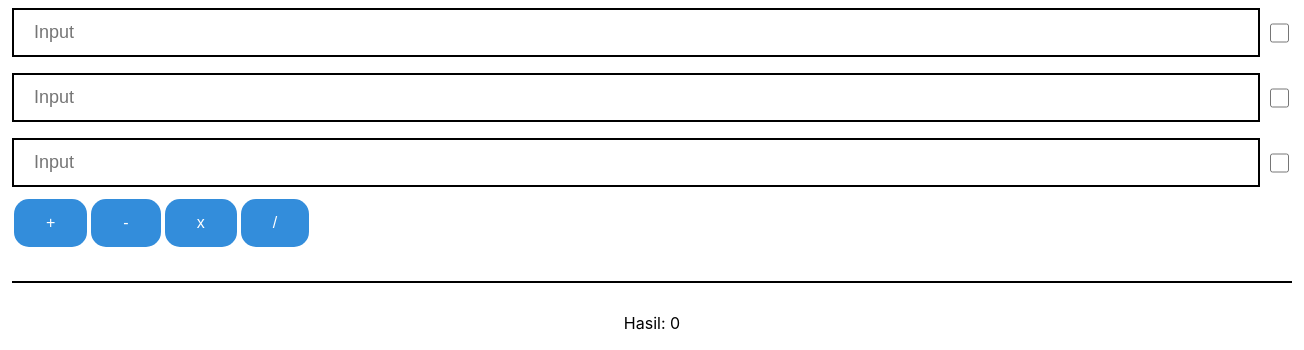
Test sum when all checked
The width and height of the screenshot is (1304, 350).
In the 1st number field with placeholder "Input": [636, 32] box [12,8,1260,57], type "1"
In the 1st number field with placeholder "Input": [636, 98] box [12,73,1260,122], type "2"
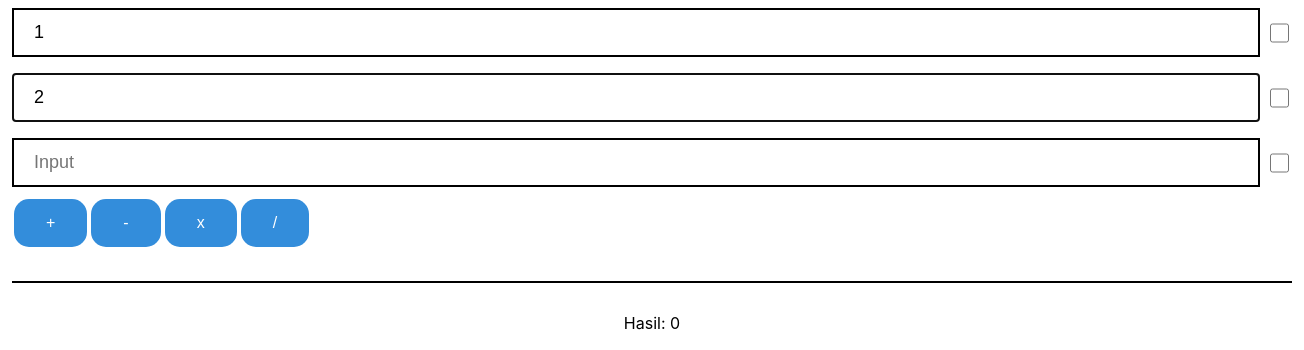
In the number field with placeholder "Input": [636, 162] box [12,138,1260,187], type "3"
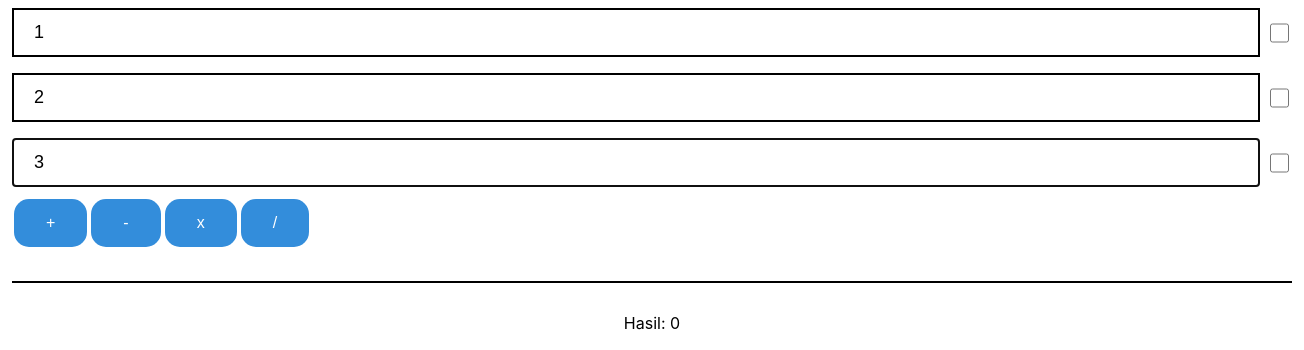
Click the 1st checkbox: [1279, 32] box [1270,22,1289,42]
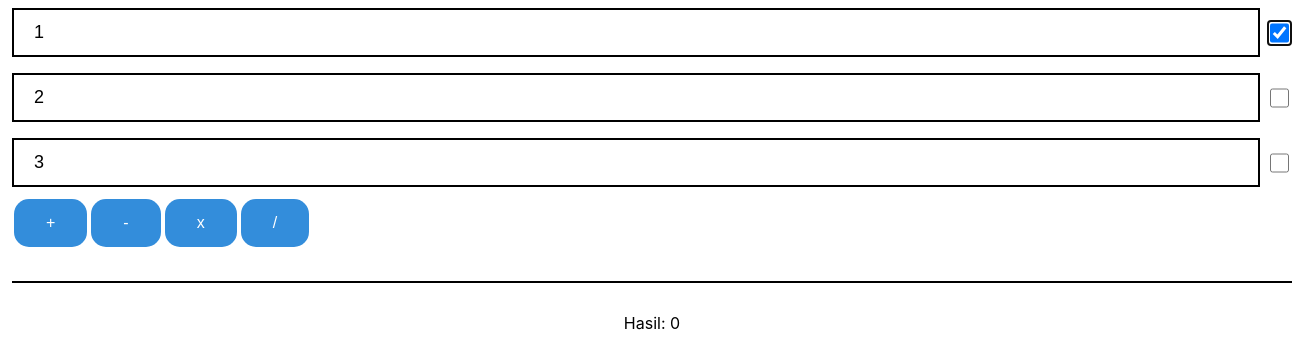
Click the 2nd checkbox: [1279, 98] box [1270,88,1289,108]
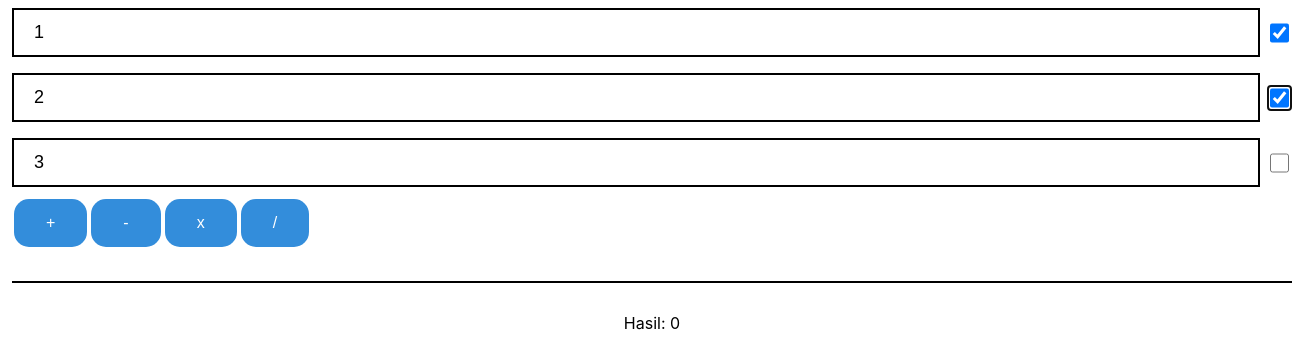
Click the 3rd checkbox: [1279, 162] box [1270,152,1289,172]
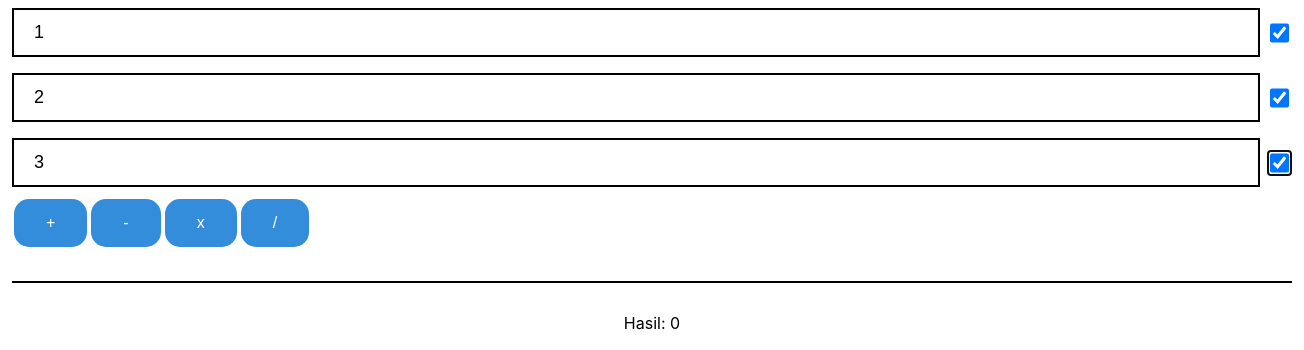
Click the button "+": [51, 223] box [14,199,87,247]
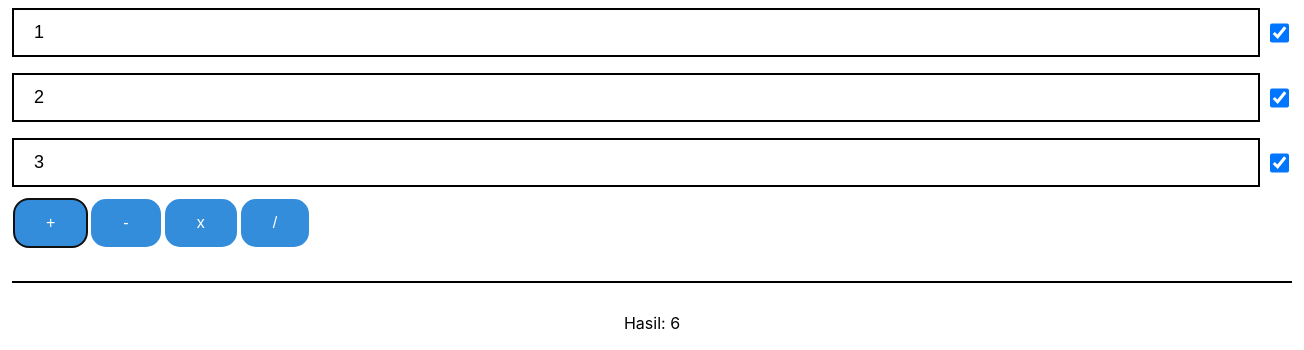
Now the text with test id "result-fragment" reads "Hasil: 6", box [624,313,680,333]
